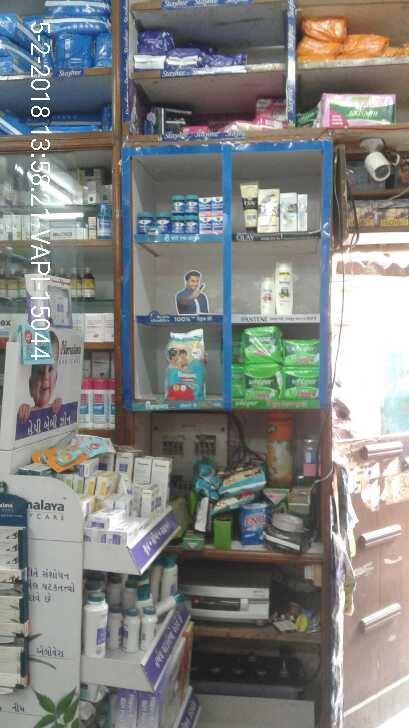vicks: (134, 191, 226, 239)
